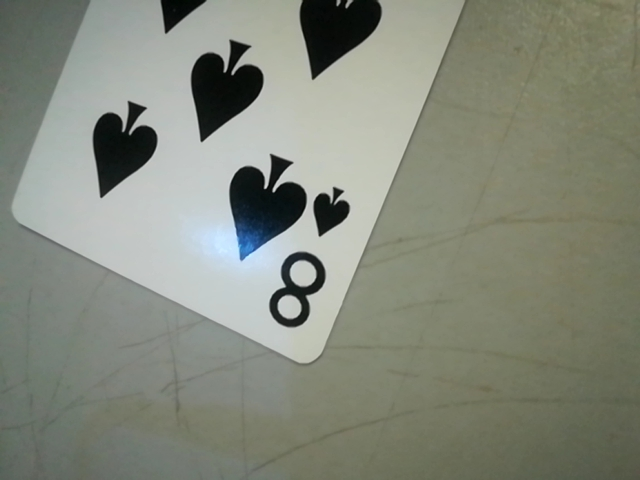ht 8: (266, 175, 353, 348)
